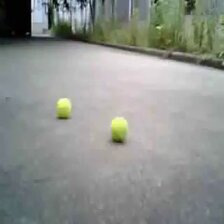tennis: (109, 117, 128, 143), (57, 98, 71, 117)
